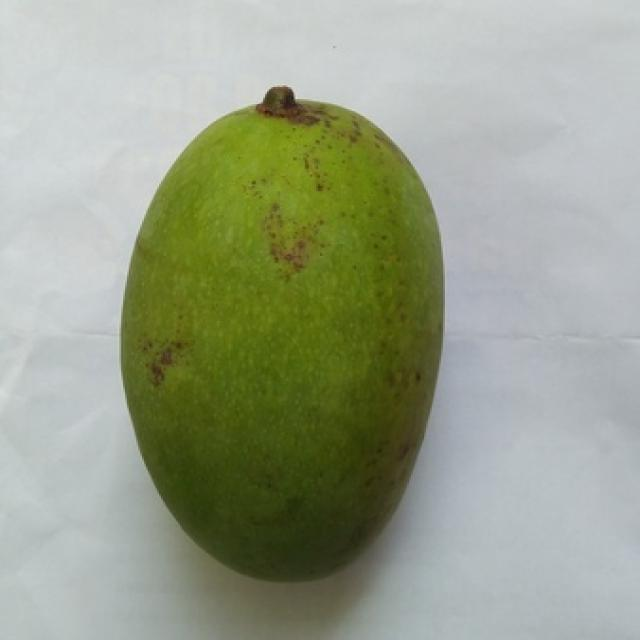Mango: (121, 96, 441, 575)
